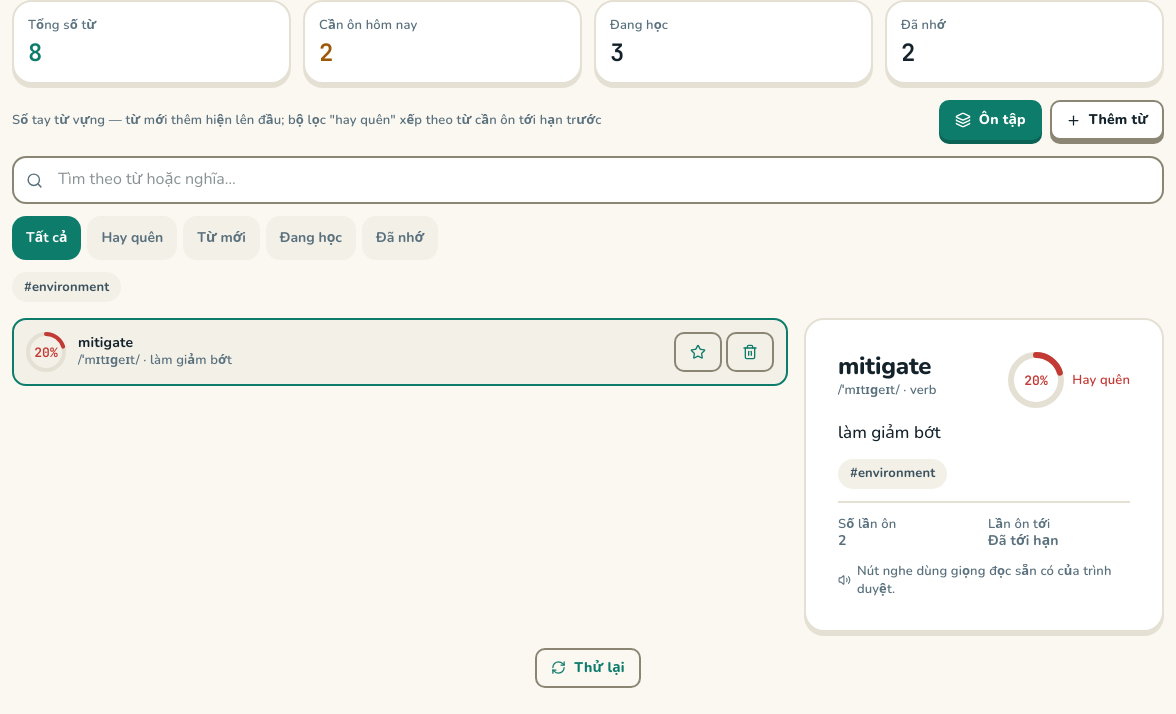
Scenario: DictionaryPage — a mutation never reorders the list › puts a newly added word at the TOP and does not refetch the list either
Click the button "Thêm từ".
click(1107, 120)  # box x1=1050 y1=100 x2=1164 y2=140
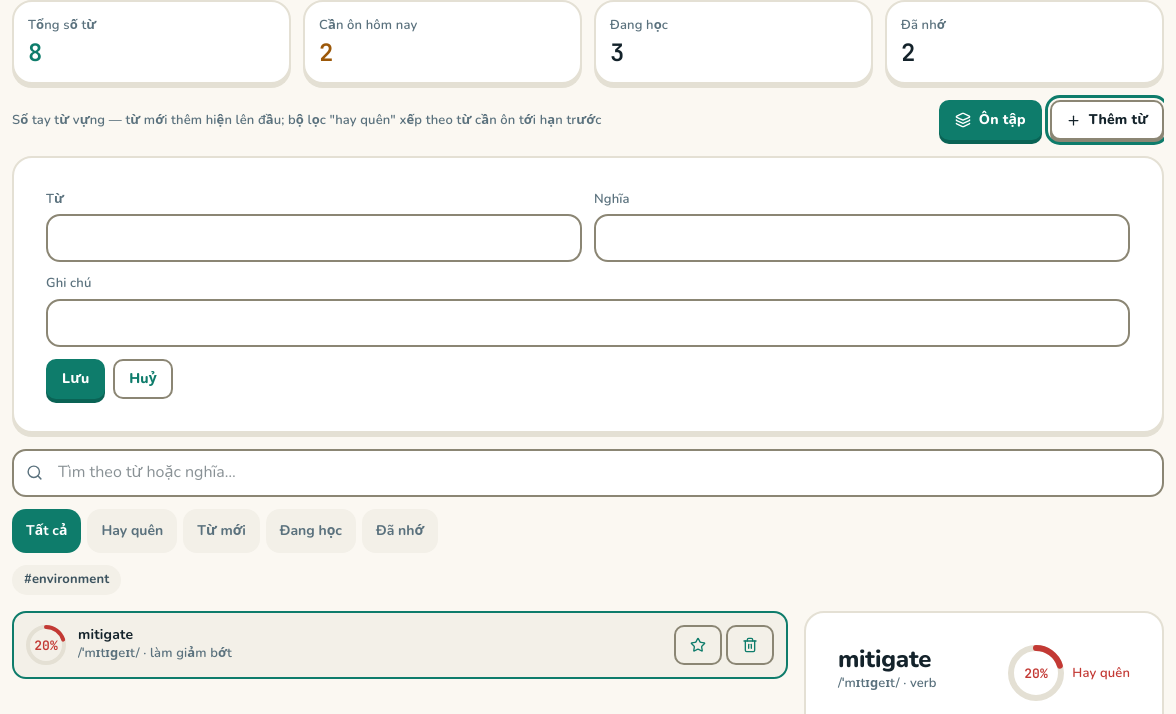
Type "resilient" into the field labelled "Từ".
click(314, 238); type("resilient")  # box x1=46 y1=214 x2=582 y2=262
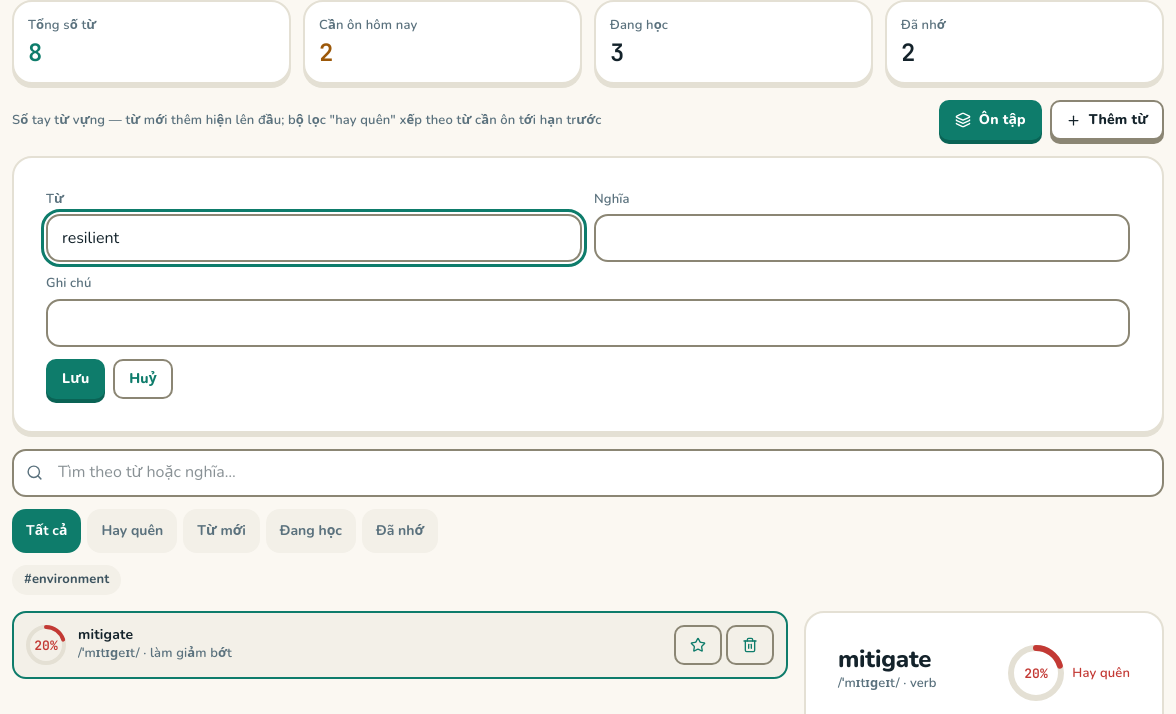
Type "kiên cường" into the field labelled "Nghĩa".
click(862, 238); type("kiên cường")  # box x1=594 y1=214 x2=1130 y2=262
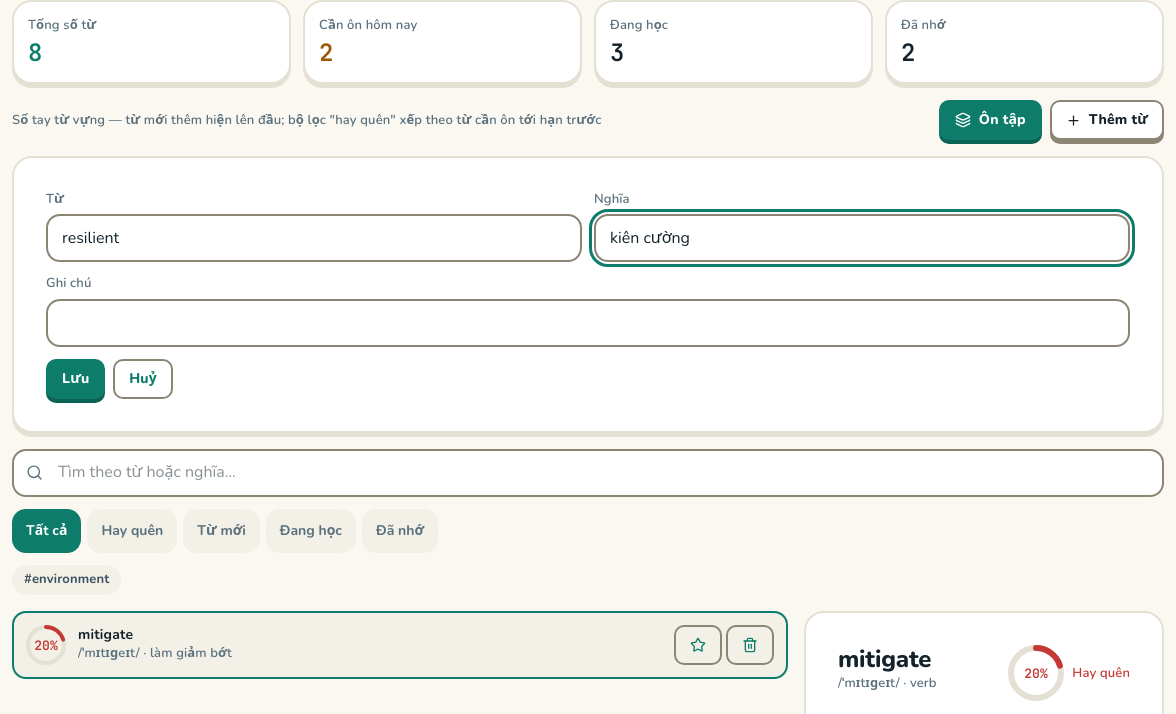
Click the button "Lưu".
click(76, 379)  # box x1=46 y1=359 x2=105 y2=399
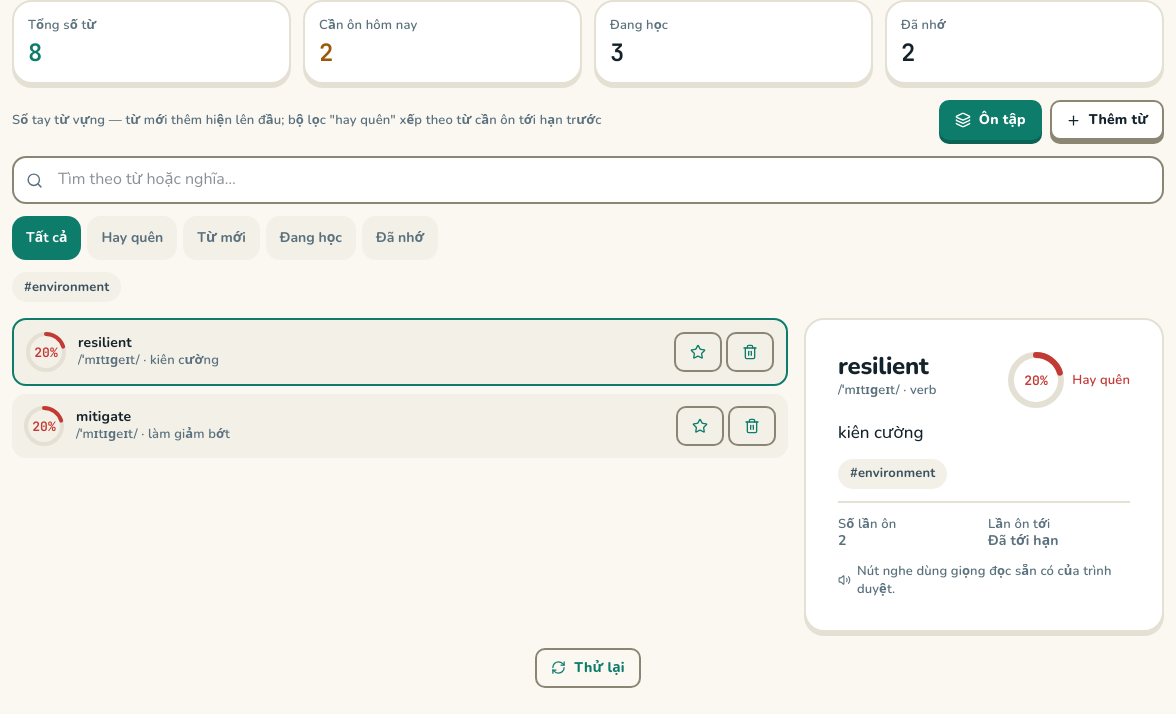
Result: the text "resilient" is shown at x1=78 y1=333 x2=132 y2=352
